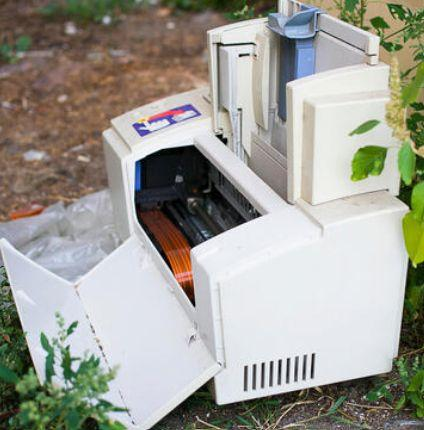electronic: (88, 16, 406, 404)
